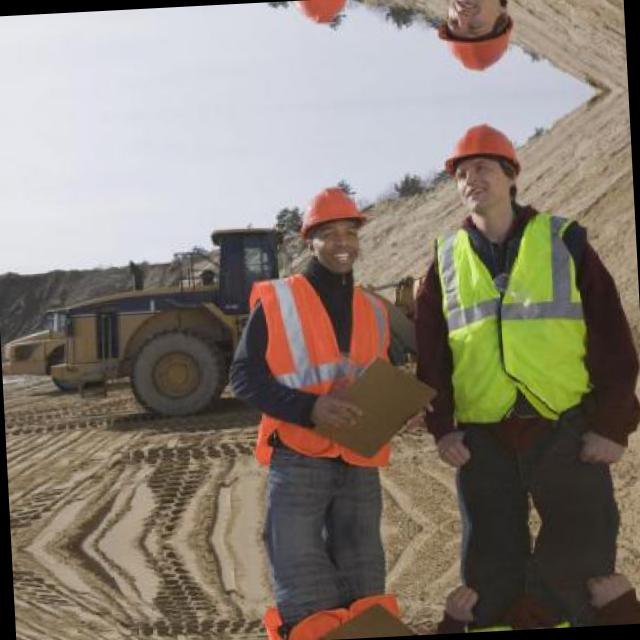helmet: (432, 104, 535, 231), (425, 0, 528, 91), (288, 177, 373, 280), (278, 0, 361, 35)
